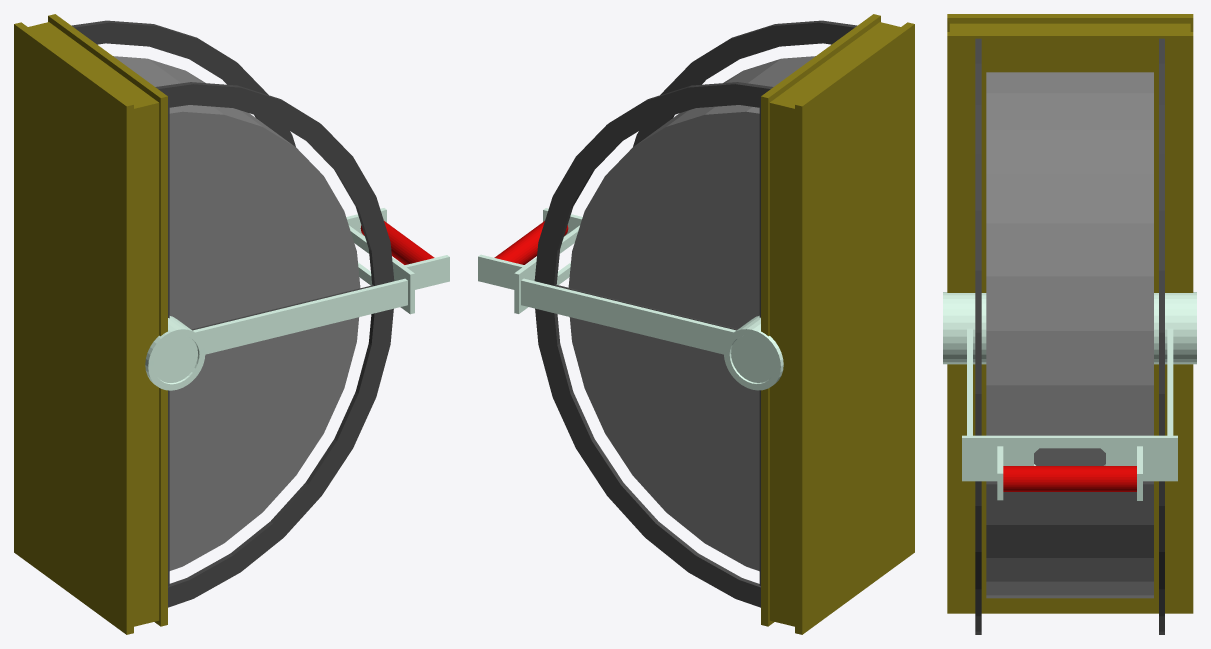
The model's file is stepper_lever.fbx.
3 views of the same model, side by side, from view 1: azimuth 30°, elevation 25°; view 2: azimuth 150°, elevation 25°; view 3: azimuth 270°, elevation 25° (orthographic). The views are drawn at different scales.
Visible parts, largest first — view 1: Cube, Cylinder, Cylinder.001, Cube.006, Cube.001; view 2: Cube, Cylinder, Cylinder.001, Cube.006, Cube.002; view 3: Cylinder, Cube, Cube.006, Cylinder.001.
Boxes of the visible parts, box(x1,y1,x2,y2) form: Cube: box(14, 14, 167, 634); Cylinder: box(113, 56, 360, 570); Cylinder.001: box(71, 20, 394, 607); Cube.006: box(145, 208, 449, 390); Cube.001: box(168, 108, 373, 586); Cube: box(761, 14, 914, 634); Cylinder: box(568, 56, 815, 571); Cylinder.001: box(534, 20, 857, 607); Cube.006: box(478, 208, 783, 390); Cube.002: box(555, 108, 760, 585); Cylinder: box(986, 72, 1153, 598); Cube: box(947, 14, 1193, 613); Cube.006: box(943, 292, 1196, 500); Cylinder.001: box(975, 38, 1164, 634).
Size of the model in its own units: 145 by 211 by 83.85.
